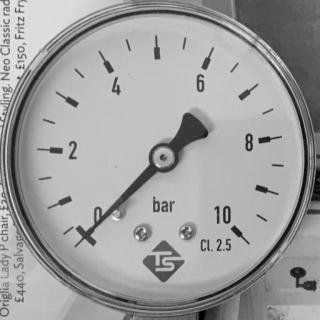gauge: (0, 0, 320, 320), (148, 142, 180, 174), (73, 220, 102, 250), (224, 213, 248, 243), (73, 227, 94, 247)
